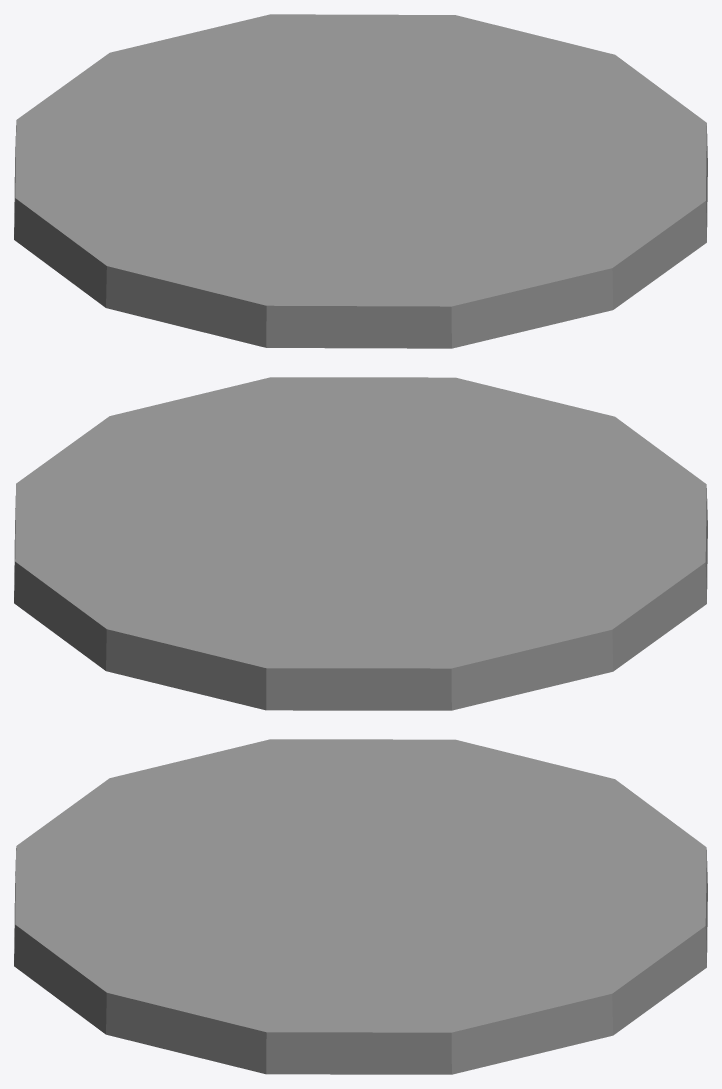
Rendered from props_077.glb.
The picture shows the model from 3 angles, top to bottom: view 1: azimuth 30°, elevation 25°; view 2: azimuth 150°, elevation 25°; view 3: azimuth 270°, elevation 25°; orthographic projection.
Visible parts, largest first — view 1: props_077; view 2: props_077; view 3: props_077.
Part boxes in pixels (x1,y1,x2,y2): props_077: (14, 14, 707, 348); props_077: (14, 377, 707, 710); props_077: (14, 739, 707, 1074).
Size of the model in its own units: 1.72 by 0.117 by 1.72.
Materials: 1 (1 with a texture image).
